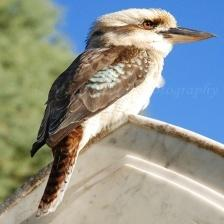bird: (31, 8, 214, 216)
